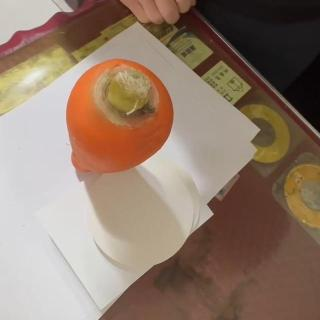carrot: (67, 59, 175, 175)
